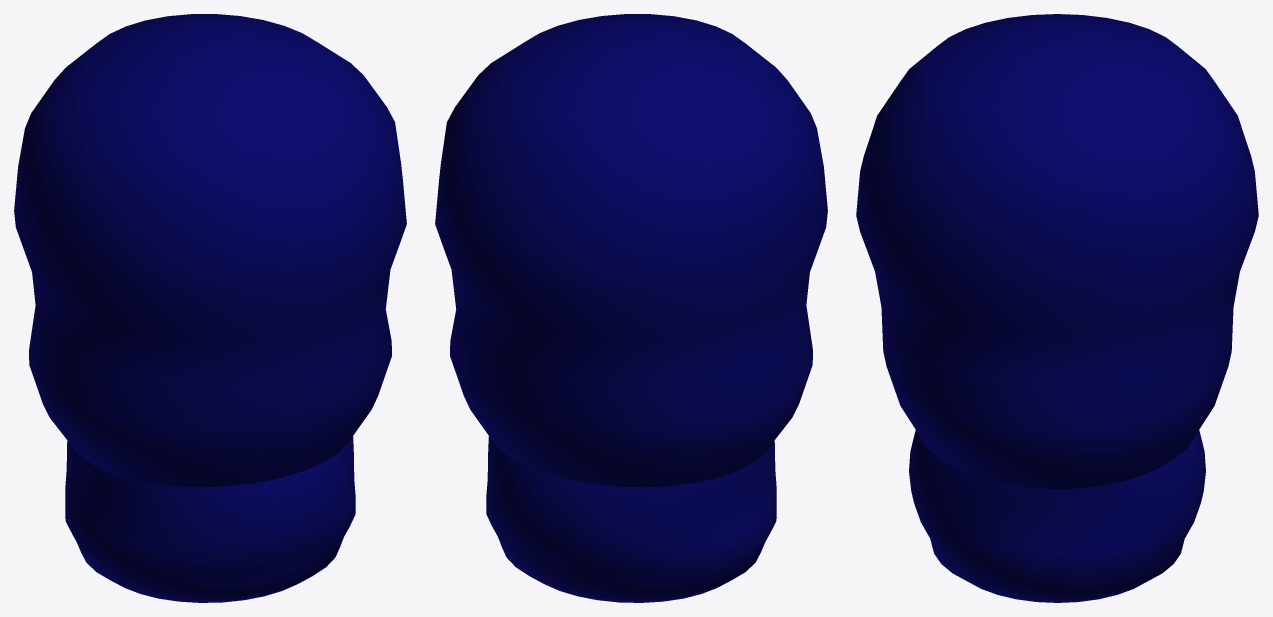
Rendered from body.gltf.
3 renders of one model, left to right at view 1: azimuth 30°, elevation 25°; view 2: azimuth 150°, elevation 25°; view 3: azimuth 270°, elevation 25°, orthographic.
Visible parts, largest first — view 1: body.023, Sphere.147; view 2: body.023, Sphere.147; view 3: body.023, Sphere.147.
Part boxes in pixels (x1=…): body.023: x1=14, y1=14, x2=406, y2=487; Sphere.147: x1=65, y1=436, x2=355, y2=602; body.023: x1=435, y1=14, x2=827, y2=487; Sphere.147: x1=486, y1=436, x2=776, y2=602; body.023: x1=856, y1=14, x2=1258, y2=489; Sphere.147: x1=909, y1=430, x2=1205, y2=602.
Size of the model in its own units: 0.2714 by 0.4028 by 0.2798.
1 material, 1 textured.
